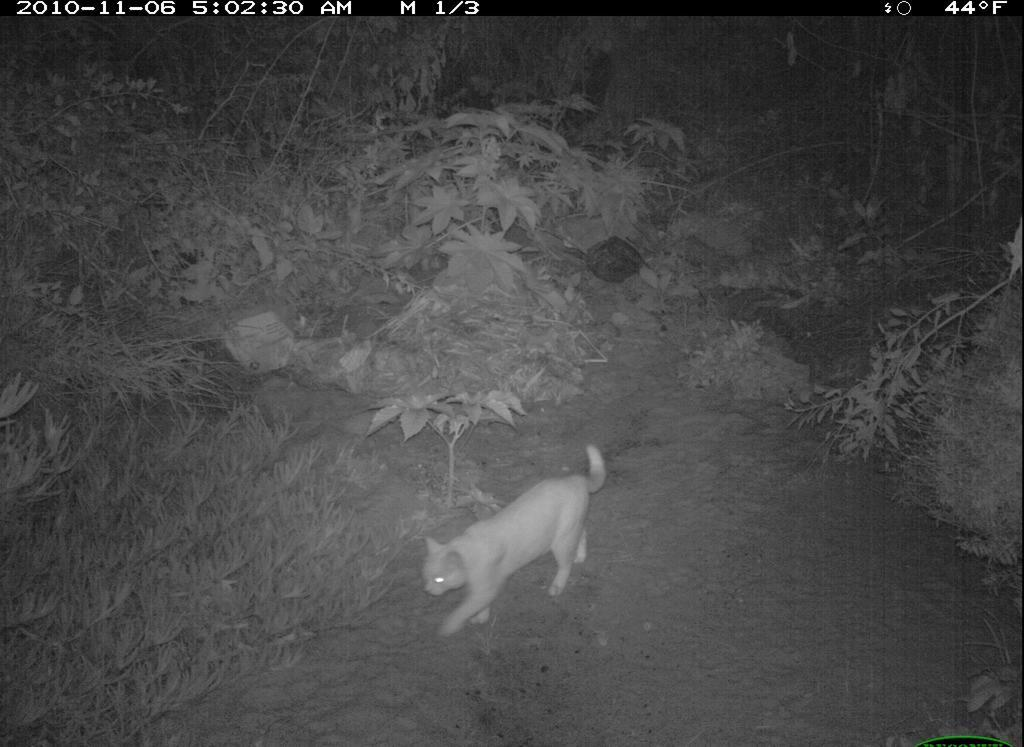cat: (408, 438, 610, 637)
